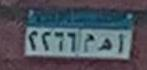2: (27, 30, 40, 52), (41, 29, 53, 51)
6: (54, 29, 65, 53), (67, 30, 78, 52)
alif: (115, 31, 128, 55)
haa: (97, 35, 114, 53)
meem: (82, 31, 95, 54)
